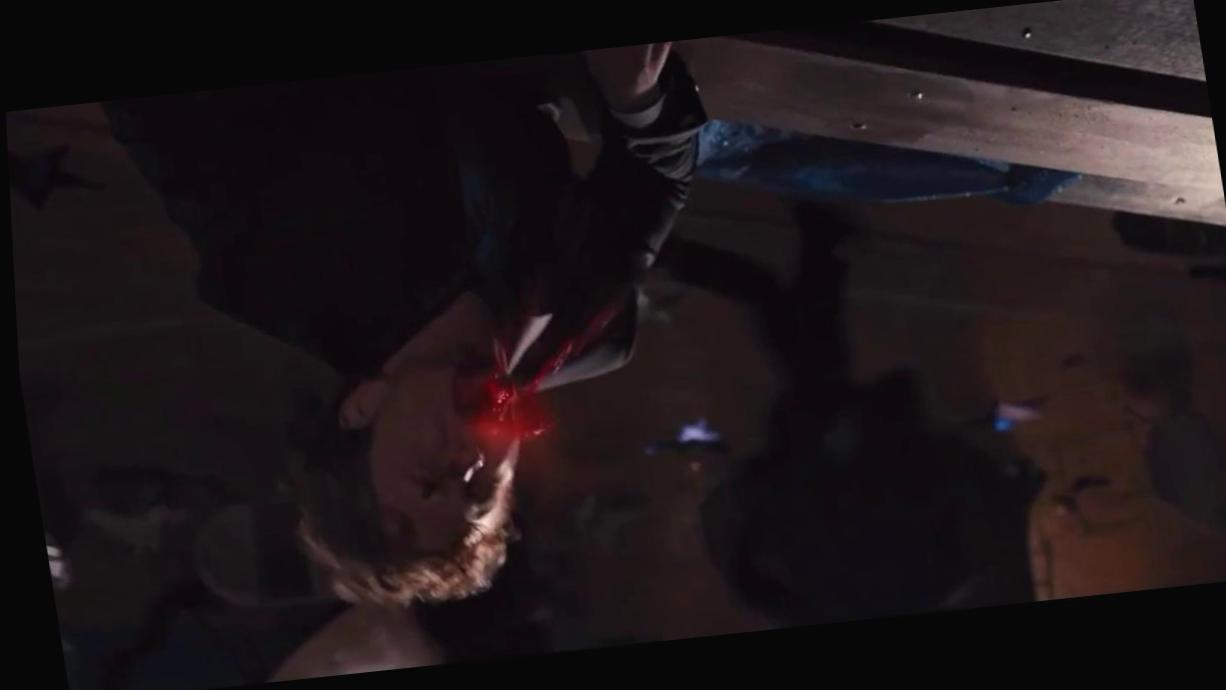Fire: (450, 300, 619, 525), (415, 454, 446, 503)
